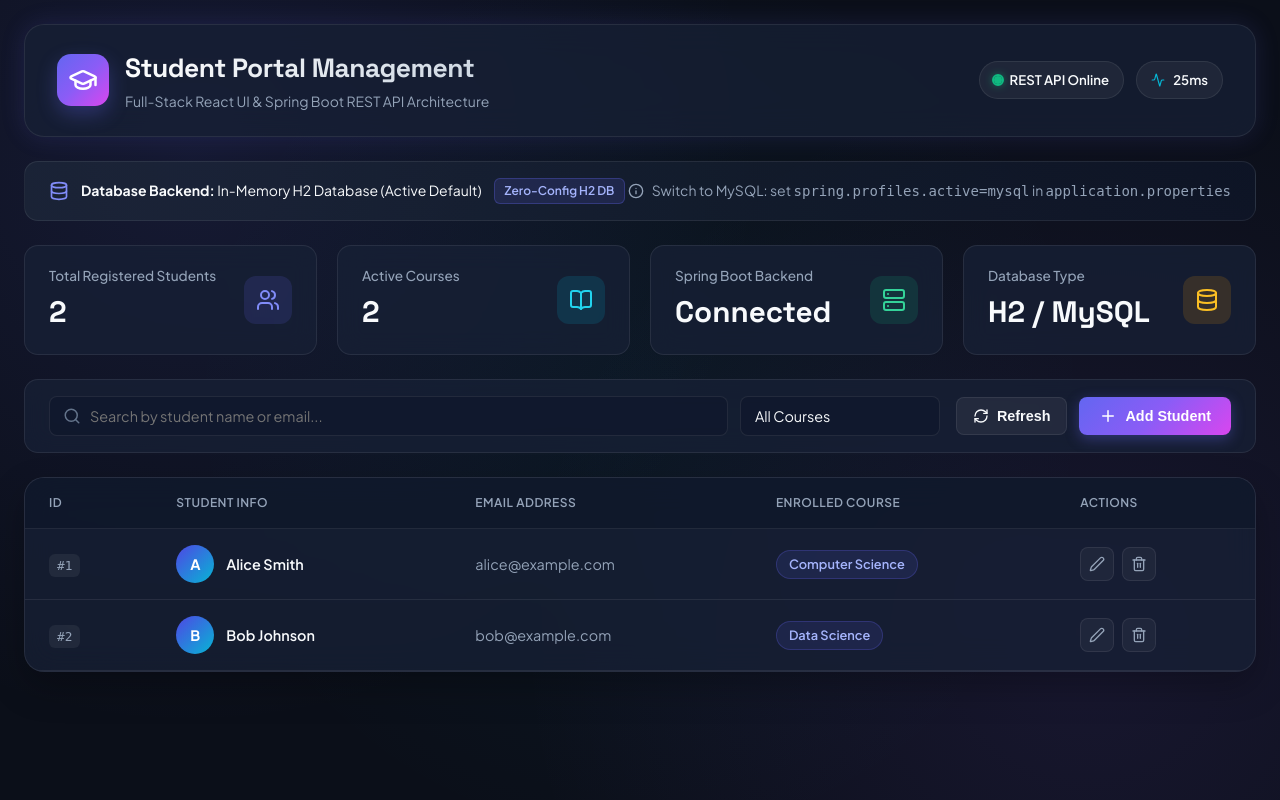
Test case: Frontend Component Tests - App.jsx › filters students based on search input query
Check: the text "Alice Smith" is shown, box top-left (226, 554), bottom-right (304, 575)
Type "Alice" into the field with placeholder "Search by student name or email...".
click(388, 416); type("Alice")  # box top-left (49, 396), bottom-right (728, 436)
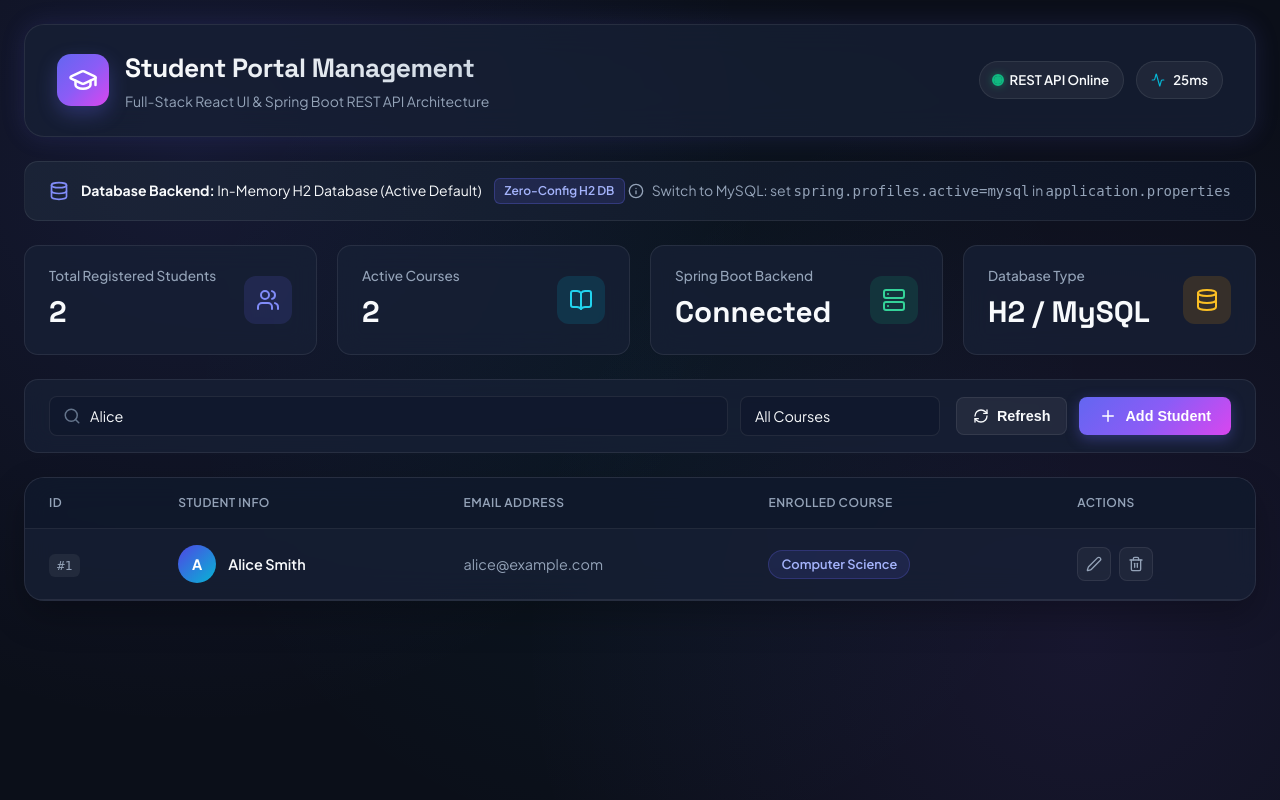
Check: the text "Alice Smith" is shown, box top-left (228, 554), bottom-right (306, 575)
Check: the text "Bob Johnson" is gone
